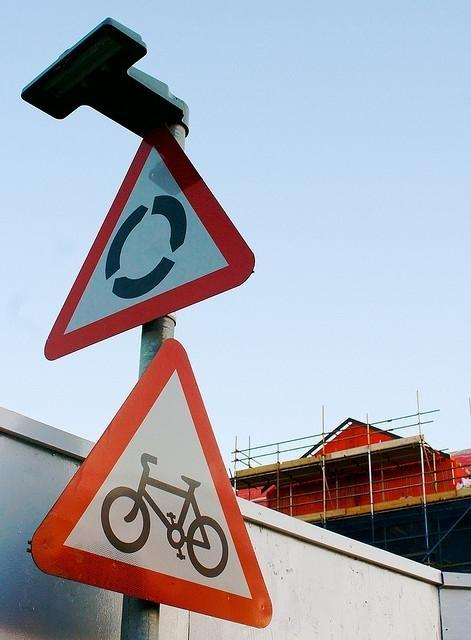bicycle: (93, 451, 230, 582)
